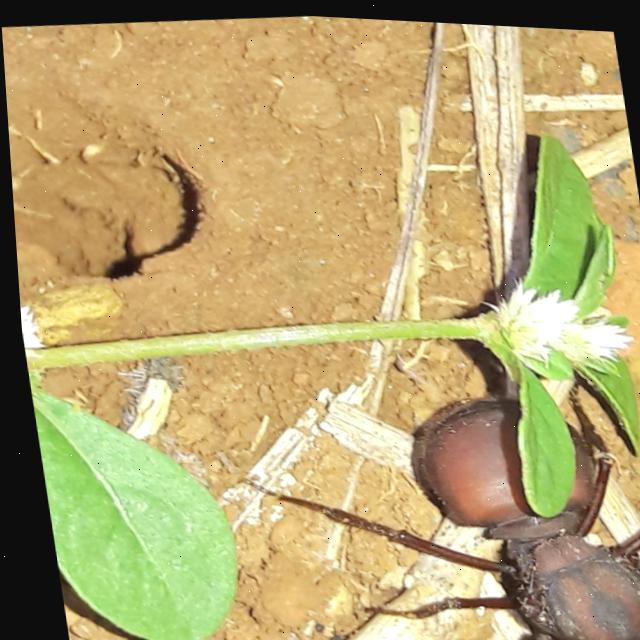Alive-Female-Dealate: (231, 363, 640, 640)
